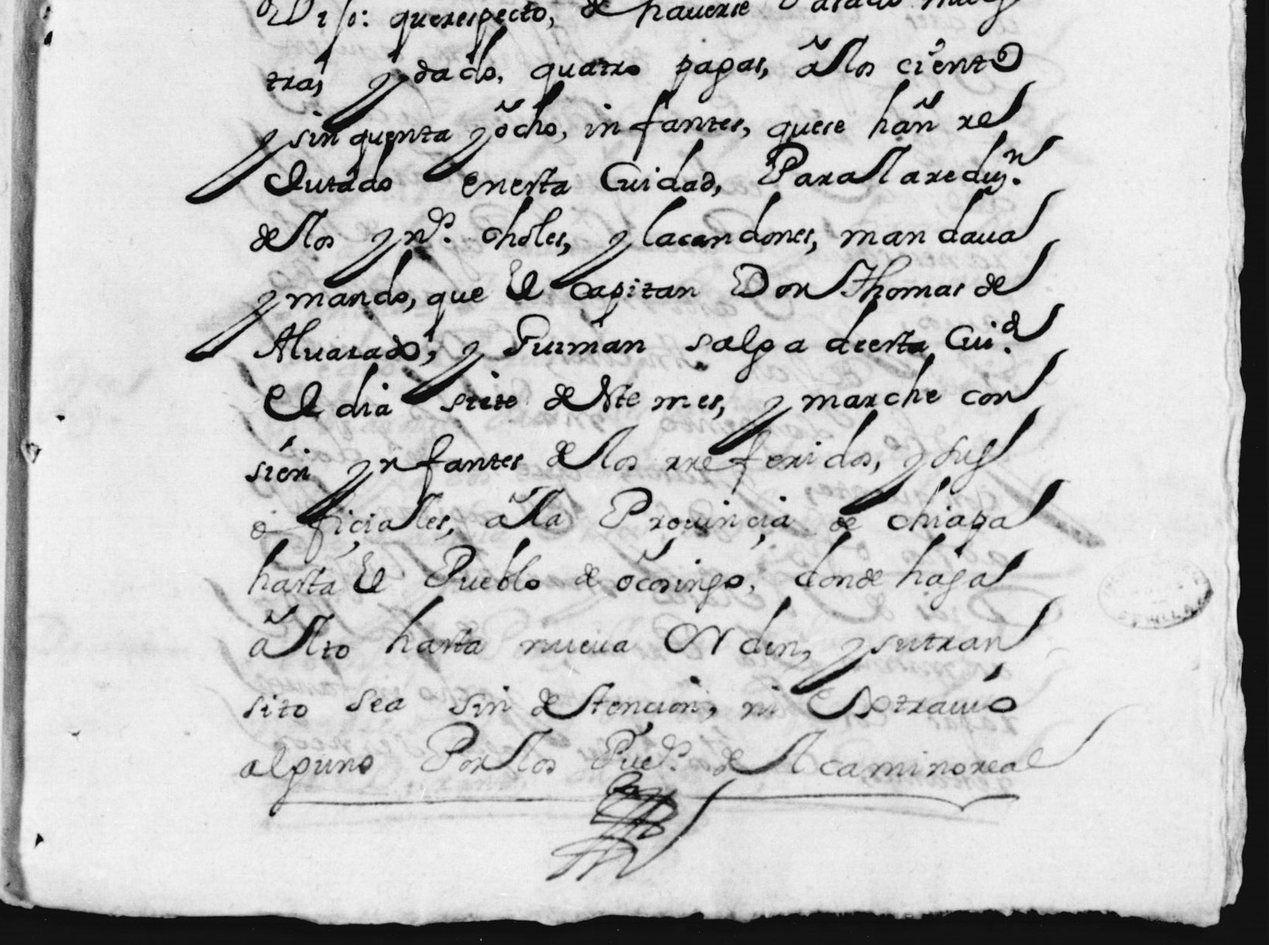lacandon: (642, 191, 814, 248)
